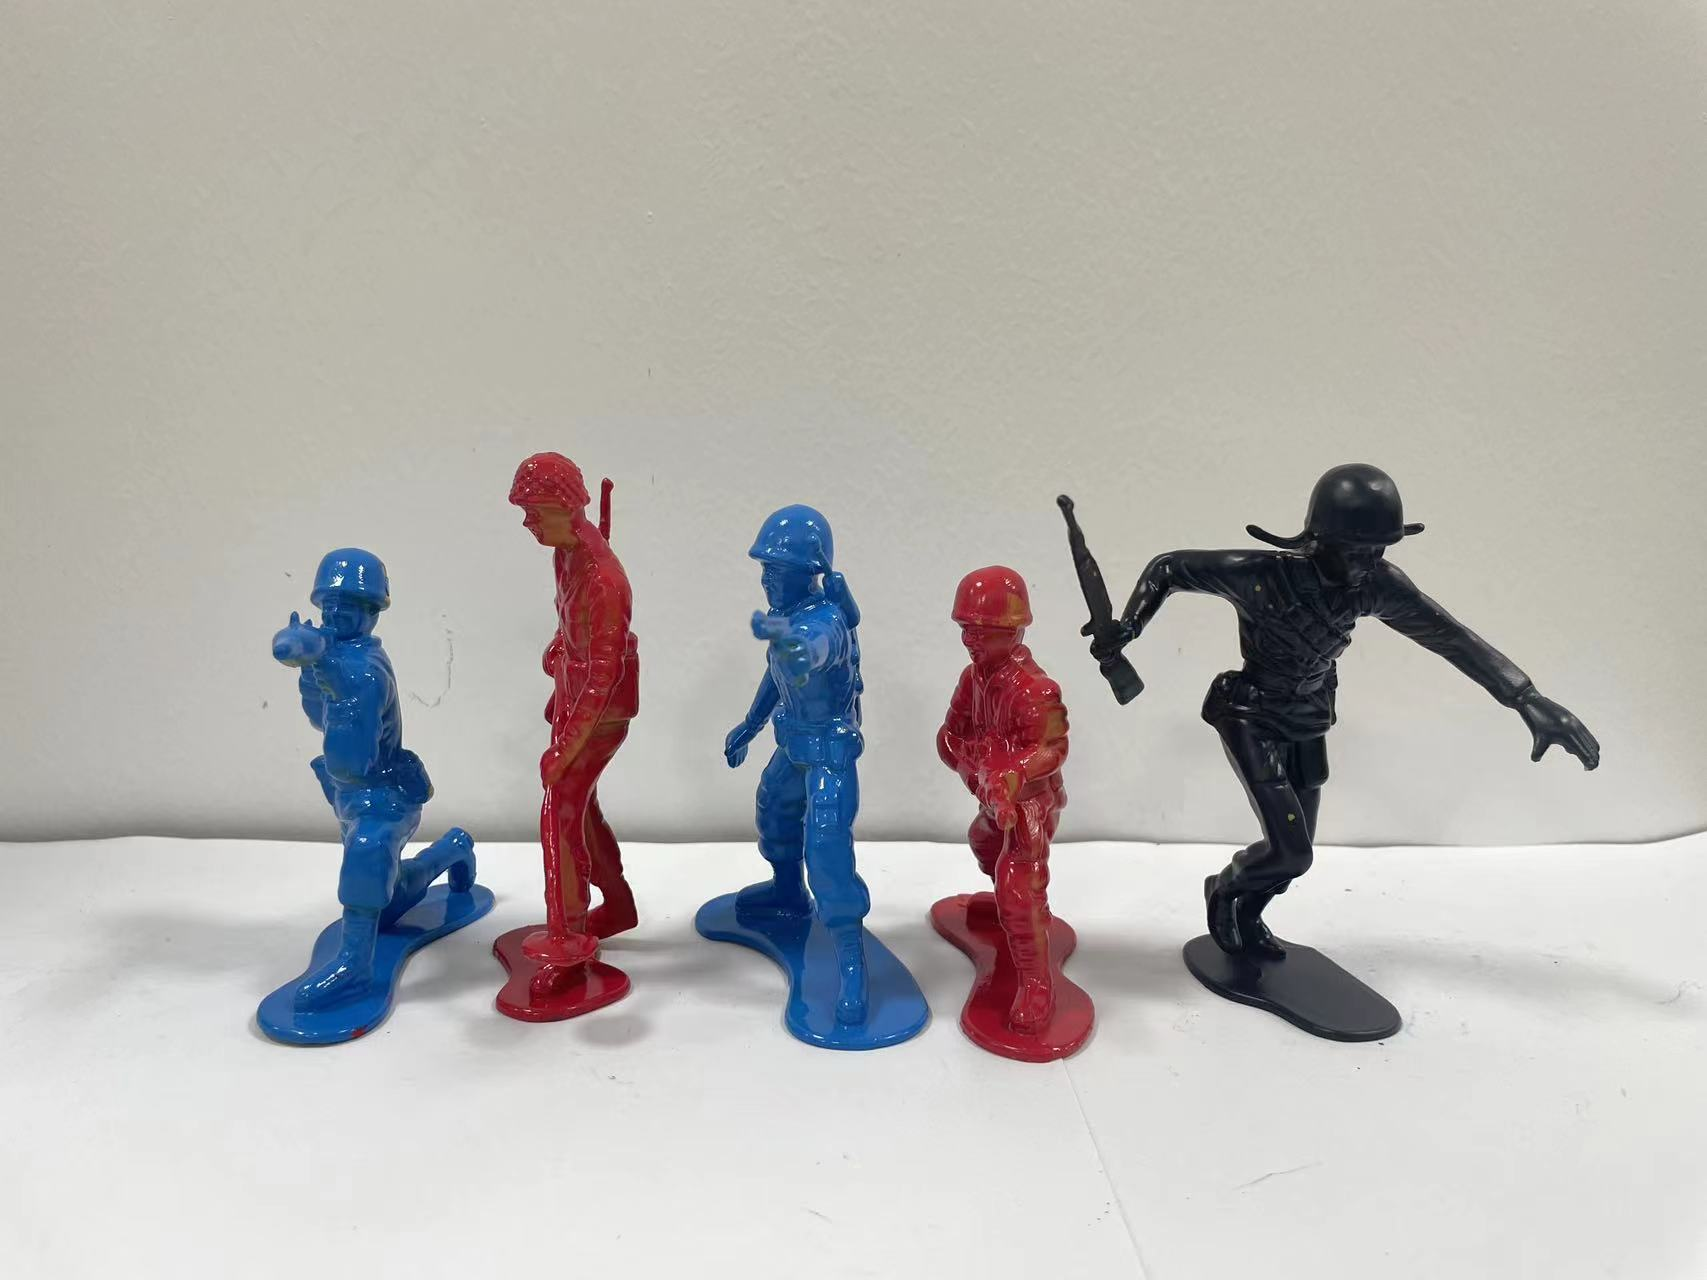black: (1059, 403, 1629, 1131)
blue: (673, 488, 935, 1064), (233, 516, 481, 1082)
red: (448, 409, 694, 1125), (898, 543, 1104, 1098)
